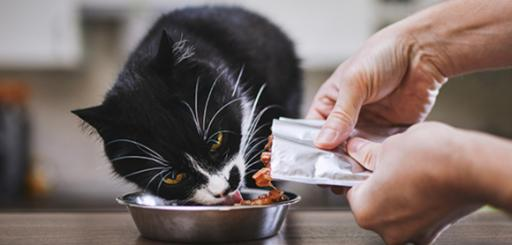cat_eating: (72, 7, 301, 244)
